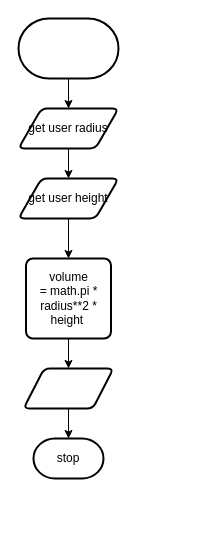
Image size: 219x539. Some labels were removed from this diagram. The shapes that lost their labels are listed below. From the top down, each one's box as (x1, y1, x2, y2) in pixels, then its label:
(17, 17, 119, 79): start
(22, 367, 114, 409): return
